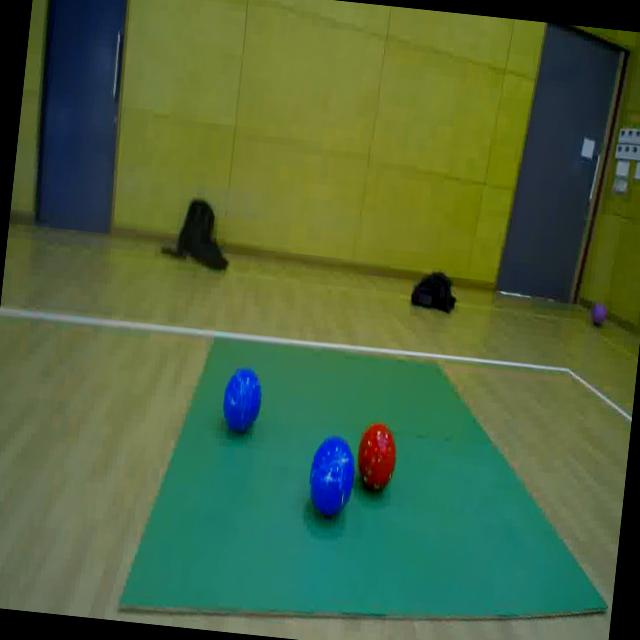blue_ball: (306, 432, 356, 514), (220, 364, 264, 432)
purple_ball: (588, 298, 610, 330)
red_ball: (352, 416, 400, 496)
